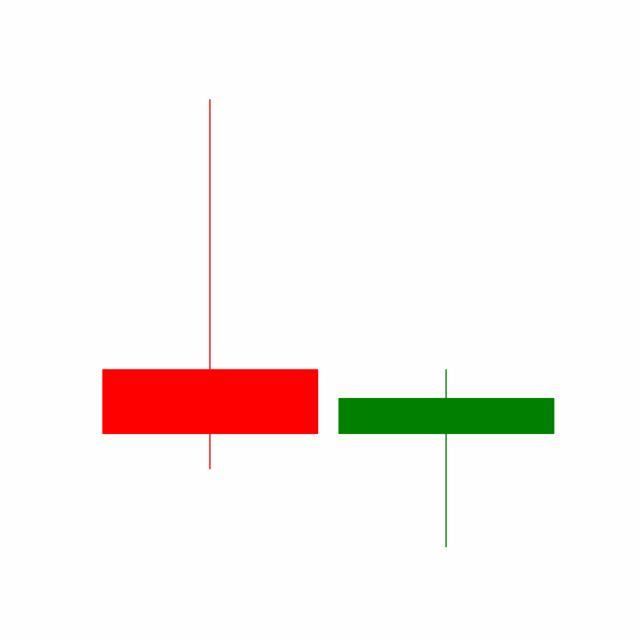Hammer: (328, 368, 566, 551)
